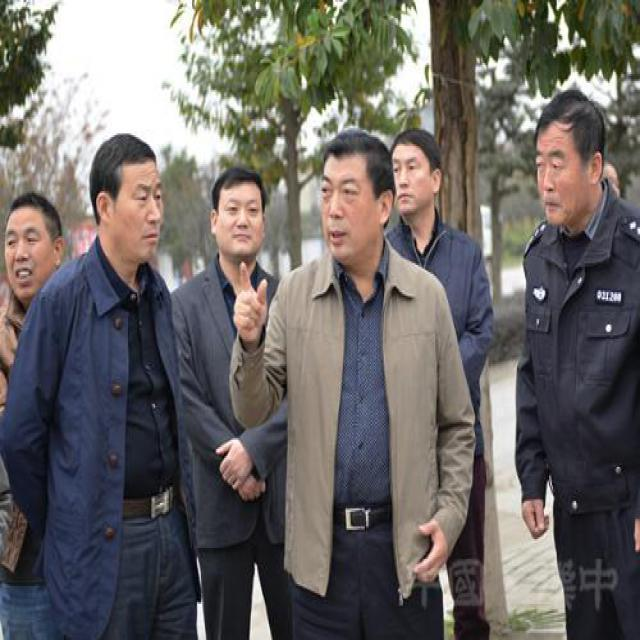head: (87, 124, 166, 275), (317, 122, 397, 268), (534, 78, 608, 230), (206, 158, 272, 271), (4, 187, 65, 297), (389, 120, 443, 223)
person: (267, 110, 453, 630), (501, 85, 640, 638), (43, 135, 197, 632), (176, 156, 291, 623), (382, 110, 500, 476)
